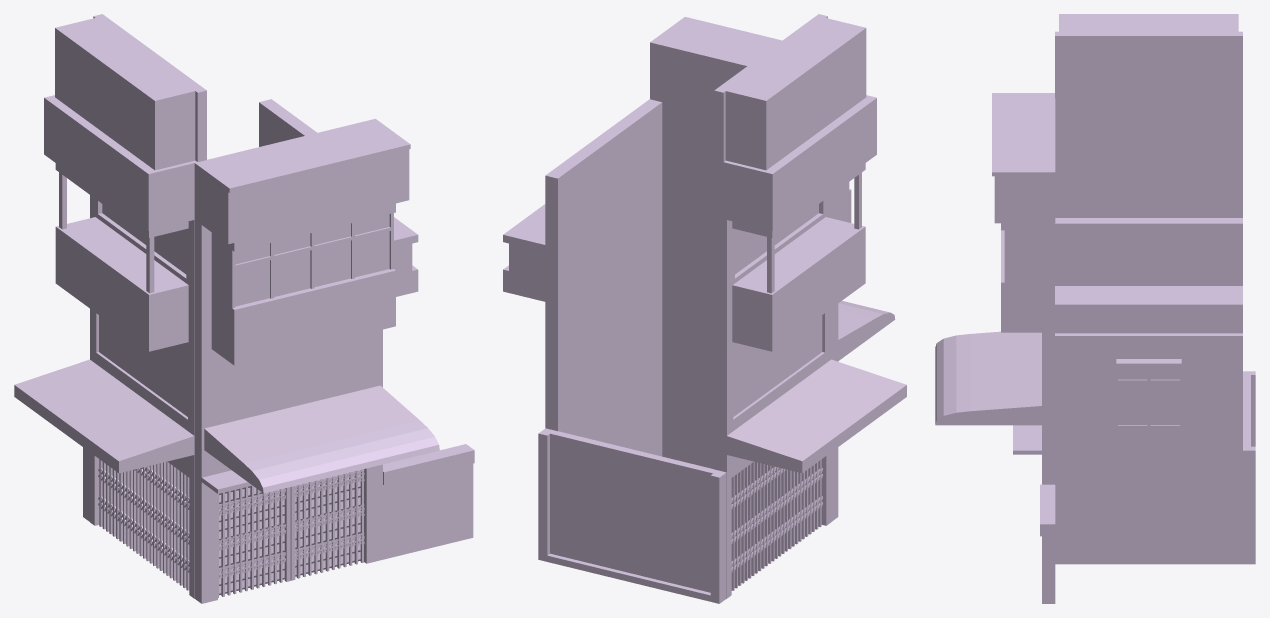
The model's file is Building01.fbx.
3 views of the same model, side by side, from view 1: azimuth 30°, elevation 25°; view 2: azimuth 150°, elevation 25°; view 3: azimuth 270°, elevation 25° (orthographic). The views are drawn at different scales.
Visible parts, largest first — view 1: BuildSec01, BuildTop02, BuildTop01.001, BuildFront01, BuildTop02.001, BuildSec02, BuildTop01, BuildFront02, BuildWall01.004, BuildTop01.002; view 2: BuildTop02, BuildWall01.003, BuildTop01.002, BuildSec02, BuildTop01, BuildSec03, BuildFront02, BuildSec01, BuildTop02.001, BuildTop01.001, BuildFront01, BuildWall01; view 3: BuildTop01.002, BuildTop02, BuildWall01, BuildSec03, BuildTop01, BuildSec01, BuildTop02.001, BuildTop01.001, BuildWall01.003, BuildWall01.004, BuildFront01.
Part boxes in pixels (x1=…): BuildSec01: x1=194, y1=329, x2=439, y2=493; BuildTop02: x1=44, y1=14, x2=206, y2=230; BuildTop01.001: x1=194, y1=203, x2=395, y2=365; BuildFront01: x1=194, y1=464, x2=382, y2=603; BuildTop02.001: x1=194, y1=118, x2=410, y2=244; BuildSec02: x1=14, y1=309, x2=194, y2=473; BuildTop01: x1=55, y1=163, x2=194, y2=351; BuildFront02: x1=90, y1=452, x2=194, y2=598; BuildWall01.004: x1=383, y1=444, x2=474, y2=559; BuildTop01.002: x1=259, y1=99, x2=418, y2=296; BuildTop02: x1=714, y1=14, x2=876, y2=230; BuildWall01.003: x1=538, y1=428, x2=726, y2=603; BuildTop01.002: x1=503, y1=99, x2=662, y2=304; BuildSec02: x1=714, y1=309, x2=906, y2=473; BuildTop01: x1=714, y1=163, x2=865, y2=351; BuildSec03: x1=545, y1=229, x2=662, y2=431; BuildFront02: x1=726, y1=452, x2=831, y2=598; BuildSec01: x1=662, y1=228, x2=895, y2=367; BuildTop02.001: x1=650, y1=17, x2=781, y2=114; BuildTop01.001: x1=662, y1=102, x2=851, y2=240; BuildFront01: x1=662, y1=355, x2=838, y2=521; BuildWall01: x1=558, y1=355, x2=662, y2=456; BuildTop01.002: x1=1055, y1=218, x2=1242, y2=355; BuildTop02: x1=1055, y1=14, x2=1242, y2=149; BuildWall01: x1=1055, y1=450, x2=1242, y2=564; BuildSec03: x1=1055, y1=355, x2=1242, y2=450; BuildTop01: x1=1055, y1=149, x2=1242, y2=217; BuildSec01: x1=935, y1=331, x2=1054, y2=450; BuildTop02.001: x1=992, y1=93, x2=1055, y2=223; BuildTop01.001: x1=1001, y1=223, x2=1054, y2=336; BuildWall01.003: x1=1243, y1=371, x2=1255, y2=564; BuildWall01.004: x1=1040, y1=484, x2=1055, y2=603; BuildFront01: x1=1013, y1=425, x2=1054, y2=484.
Bounding box in the file's own units: 576 × 800 × 511.
